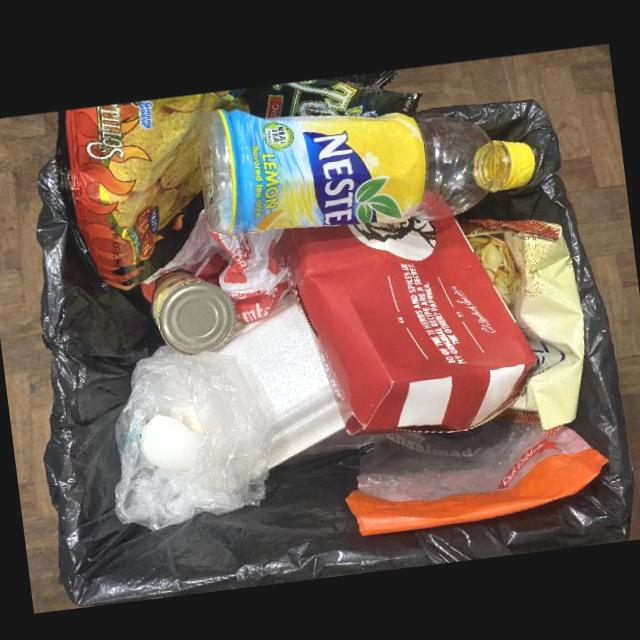bao_bi_thuc_pham: (55, 70, 422, 290), (343, 419, 609, 535), (454, 218, 584, 430)
carton: (271, 187, 537, 435)
chai_nhua_pet: (198, 107, 535, 234)
giay: (139, 208, 290, 322)
nhom: (148, 272, 236, 356)
tui_ni_long: (113, 345, 272, 529)
vo_trung: (141, 415, 202, 470)
xop: (215, 293, 346, 471)
